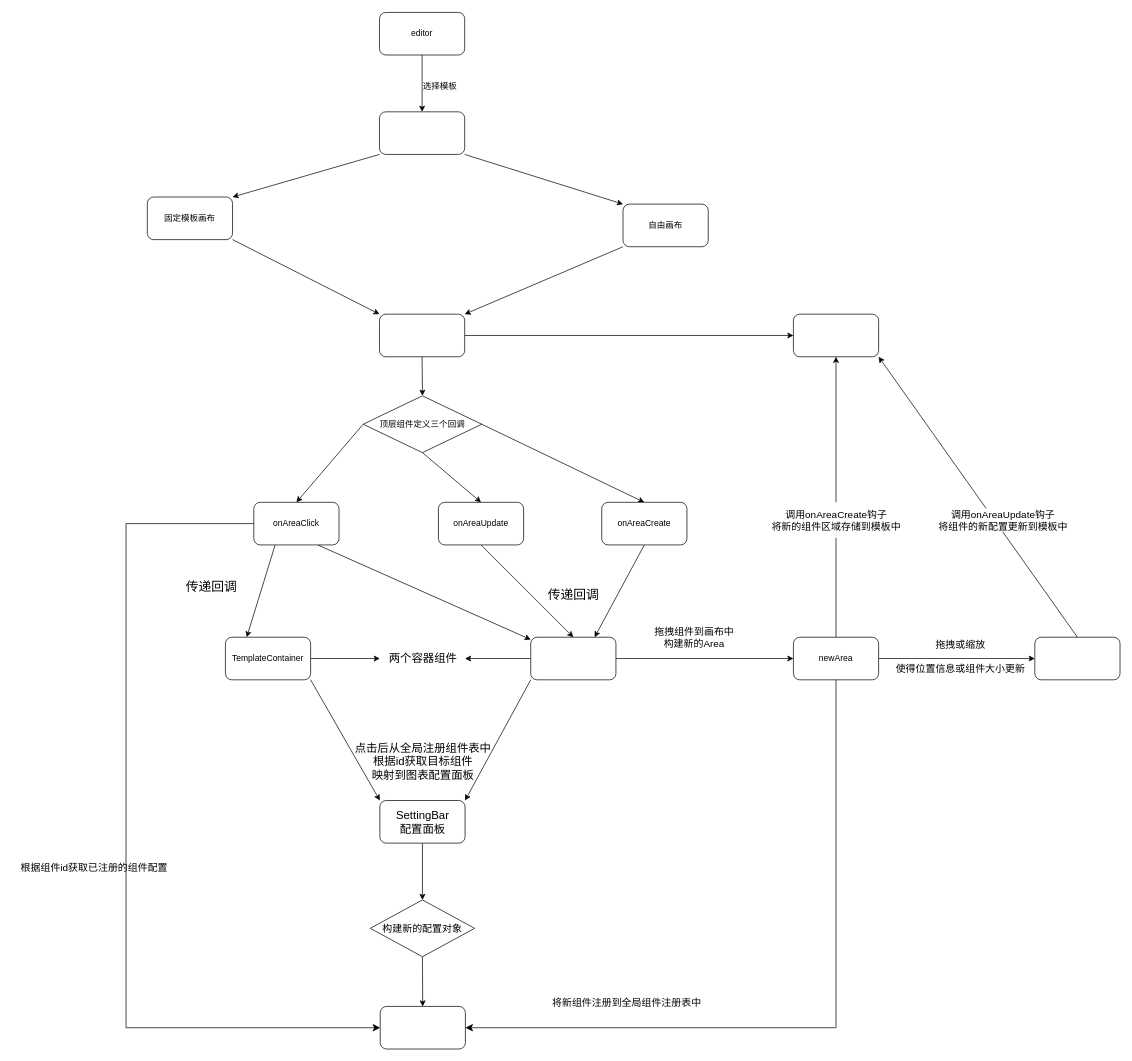
The diagram is 1132 pixels wide and 1061 high, and some of its shapes have lost their labels. Here are the shapes that lost their labels. From the top down, the box of each, then its label:
(379, 111, 465, 154): templates
(379, 313, 465, 357): Index组件
(793, 313, 879, 357): 存储选择的模板
(530, 637, 616, 680): FreeLayOutContainer
(1034, 637, 1120, 680): justifyArea
(379, 1006, 465, 1049): 全局组件注册表
